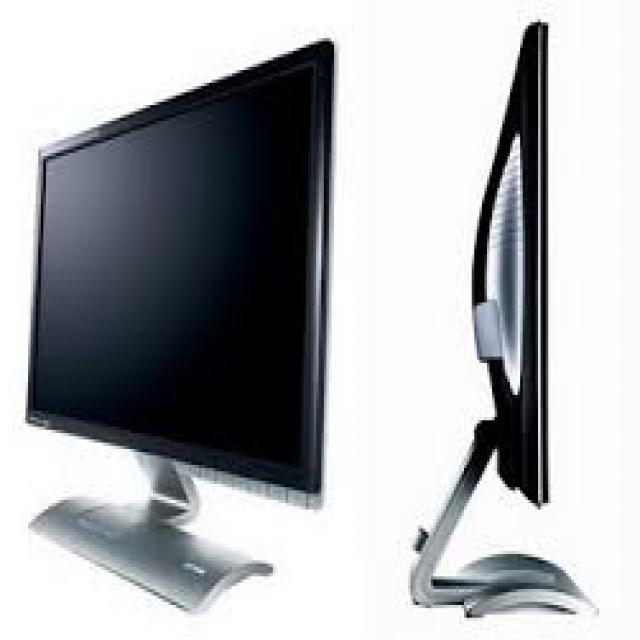monitor: (0, 6, 366, 640), (397, 9, 581, 634)
